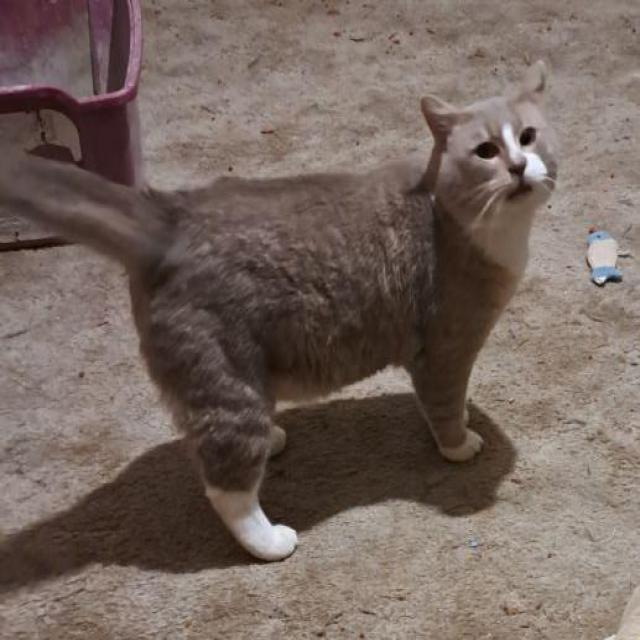american_shorthair_cat: (416, 57, 569, 237)
